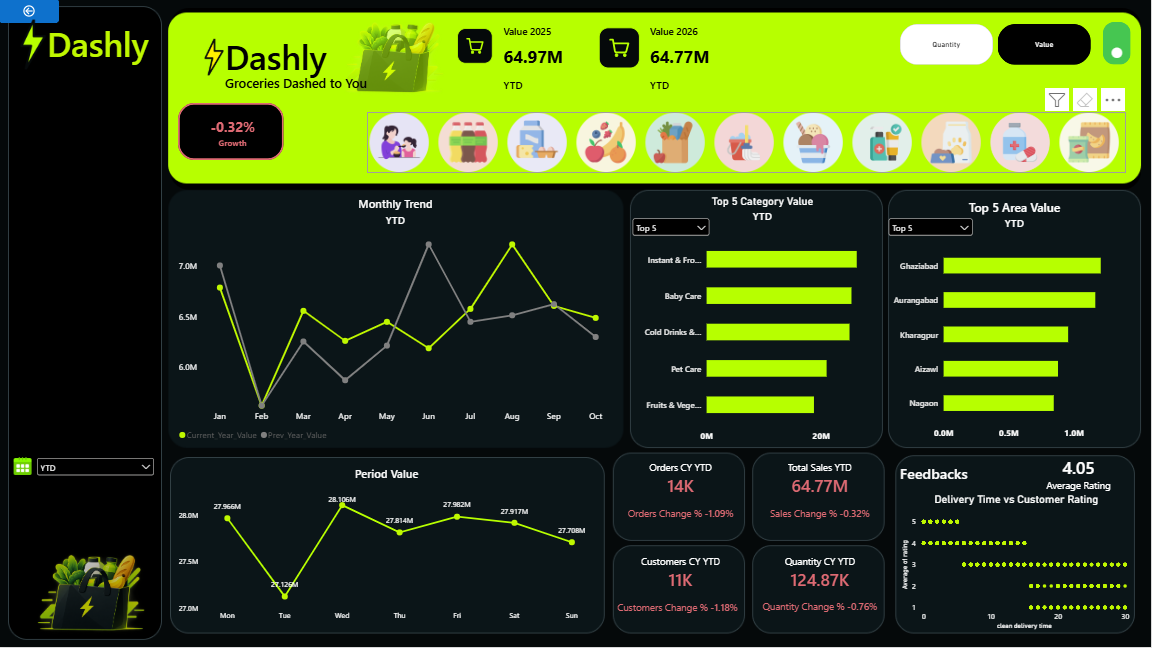

What the dashboard file says about the page in this screenshot:
{"tool":"powerbi","page":{"name":"Dashly","canvas":[1920,1080],"ordinal":0},"visuals":[{"type":"cardVisual","fields":{"Data":["Sale_Measures.Prev_Year_Value","Sale_Measures.Current_Year_Value"]},"box":[825,43.3,481.8,145],"z":0},{"type":"advancedSlicerVisual","fields":{"Values":["MasterTable.category"]},"box":[613.3,188.3,1265,101.7],"z":1000},{"type":"advancedSlicerVisual","fields":{"Values":["AUTO_DATE.Options"]},"box":[1840,38.3,46.7,71.7],"z":2000},{"type":"image","box":[988.3,45,91.5,73.4],"z":3000},{"type":"actionButton","box":[0,0,100,40],"z":4000},{"type":"image","box":[761.7,42.3,62.5,73.4],"z":5000},{"type":"cardVisual","fields":{"Data":["Sale_Measures.CY_PY_GROWTH"]},"box":[298.3,173.3,176.7,95],"z":6000},{"type":"clusteredBarChart","fields":{"Category":["MasterTable.area"],"Y":["Sale_Measures.topN_Area_by_Value"]},"box":[1473.3,318.3,438.3,436.7],"z":7000},{"type":"lineChart","title":"Monthly Trend","fields":{"Category":["Calendar.Month"],"Y":["Sale_Measures.Current_Year_Value"],"Y2":["Sale_Measures.Prev_Year_Value"]},"box":[283.3,315,755,441.7],"z":8000},{"type":"slicer","fields":{"Values":["Rank_table.Rank"]},"box":[1461.7,346.7,181.7,53.3],"z":9000},{"type":"clusteredBarChart","fields":{"Category":["MasterTable.category"],"Y":["Sale_Measures.TopN_Category_by_Value"]},"box":[1048.3,311.7,448.3,448.3],"z":10000},{"type":"slicer","fields":{"Values":["Rank_table.Rank"]},"box":[1035,346.7,170,65],"z":11000},{"type":"image","box":[328.3,38.3,61.7,116.7],"z":12000},{"type":"image","box":[536.7,20,241.7,153.3],"z":13000},{"type":"textbox","box":[376.7,58.3,331.7,118.3],"z":14000},{"type":"textbox","box":[376.7,125,407.1,50],"z":15000},{"type":"advancedSlicerVisual","fields":{"Values":["Value_Options.Value_Tyoe"]},"box":[1501.7,41.7,318.3,68.3],"z":17000},{"type":"textbox","box":[80,36.7,186.7,88.3],"z":18000},{"type":"slicer","fields":{"Values":["Time_Period.Options"]},"box":[58.3,760,205,48.3],"z":19000},{"type":"image","box":[16.7,28.3,83.3,95],"z":20000},{"type":"image","box":[24.3,897.1,258.3,183.3],"z":21000},{"type":"image","box":[23,764,31.7,30],"z":22000},{"type":"lineChart","title":"Period Value","fields":{"Category":["Calendar.Day"],"Y":["Sale_Measures.Period_Value"]},"box":[282.9,764.3,725.7,291.4],"z":23000},{"type":"cardVisual","fields":{"Data":["MasterTable.Orders CY YTD"]},"box":[1008.3,755,255,155],"z":24000},{"type":"cardVisual","fields":{"Data":["MasterTable.Sales CY YTD"]},"box":[1235,755,266.7,155],"z":25000},{"type":"cardVisual","fields":{"Data":["MasterTable.Quantity CY YTD"]},"box":[1235,911.7,266.7,153.3],"z":26000},{"type":"cardVisual","fields":{"Data":["MasterTable.Customers CY YTD"]},"box":[998.3,911.7,275,155],"z":27000},{"type":"textbox","box":[1501.2,760.4,226.7,78.3],"z":27002},{"type":"cardVisual","fields":{"Data":["MasterTable.AVG_rating"]},"box":[1720.4,760.4,158.3,63.3],"z":27003},{"type":"scatterChart","title":"Delivery Time vs Customer Rating","fields":{"Category":["MasterTable.order_id"],"X":["MasterTable.clean delivery time"],"Y":["Avg(MasterTable.rating)"]},"box":[1487.6,808.8,414.2,258.5],"z":27004}]}

Visuals, with their boxes on the page's 1920x1080 design canvas (x1, y1, x2, y2). These are canvas units, not pixel positions in the 1152x648 screenshot, which may show the page scaled, cropped or inside an application window:
cardVisual - Sale_Measures.Prev_Year_Value x Sale_Measures.Current_Year_Value: {"left": 825, "top": 43, "right": 1307, "bottom": 188}
advancedSlicerVisual - MasterTable.category: {"left": 613, "top": 188, "right": 1878, "bottom": 290}
advancedSlicerVisual - AUTO_DATE.Options: {"left": 1840, "top": 38, "right": 1887, "bottom": 110}
image: {"left": 988, "top": 45, "right": 1080, "bottom": 118}
actionButton: {"left": 0, "top": 0, "right": 100, "bottom": 40}
image: {"left": 762, "top": 42, "right": 824, "bottom": 116}
cardVisual - Sale_Measures.CY_PY_GROWTH: {"left": 298, "top": 173, "right": 475, "bottom": 268}
clusteredBarChart - MasterTable.area x Sale_Measures.topN_Area_by_Value: {"left": 1473, "top": 318, "right": 1912, "bottom": 755}
"Monthly Trend" lineChart: {"left": 283, "top": 315, "right": 1038, "bottom": 757}
slicer - Rank_table.Rank: {"left": 1462, "top": 347, "right": 1643, "bottom": 400}
clusteredBarChart - MasterTable.category x Sale_Measures.TopN_Category_by_Value: {"left": 1048, "top": 312, "right": 1497, "bottom": 760}
slicer - Rank_table.Rank: {"left": 1035, "top": 347, "right": 1205, "bottom": 412}
image: {"left": 328, "top": 38, "right": 390, "bottom": 155}
image: {"left": 537, "top": 20, "right": 778, "bottom": 173}
textbox: {"left": 377, "top": 58, "right": 708, "bottom": 177}
textbox: {"left": 377, "top": 125, "right": 784, "bottom": 175}
advancedSlicerVisual - Value_Options.Value_Tyoe: {"left": 1502, "top": 42, "right": 1820, "bottom": 110}
textbox: {"left": 80, "top": 37, "right": 267, "bottom": 125}
slicer - Time_Period.Options: {"left": 58, "top": 760, "right": 263, "bottom": 808}
image: {"left": 17, "top": 28, "right": 100, "bottom": 123}
image: {"left": 24, "top": 897, "right": 283, "bottom": 1080}
image: {"left": 23, "top": 764, "right": 55, "bottom": 794}
"Period Value" lineChart: {"left": 283, "top": 764, "right": 1009, "bottom": 1056}
cardVisual - MasterTable.Orders CY YTD: {"left": 1008, "top": 755, "right": 1263, "bottom": 910}
cardVisual - MasterTable.Sales CY YTD: {"left": 1235, "top": 755, "right": 1502, "bottom": 910}
cardVisual - MasterTable.Quantity CY YTD: {"left": 1235, "top": 912, "right": 1502, "bottom": 1065}
cardVisual - MasterTable.Customers CY YTD: {"left": 998, "top": 912, "right": 1273, "bottom": 1067}
textbox: {"left": 1501, "top": 760, "right": 1728, "bottom": 839}
cardVisual - MasterTable.AVG_rating: {"left": 1720, "top": 760, "right": 1879, "bottom": 824}
"Delivery Time vs Customer Rating" scatterChart: {"left": 1488, "top": 809, "right": 1902, "bottom": 1067}
